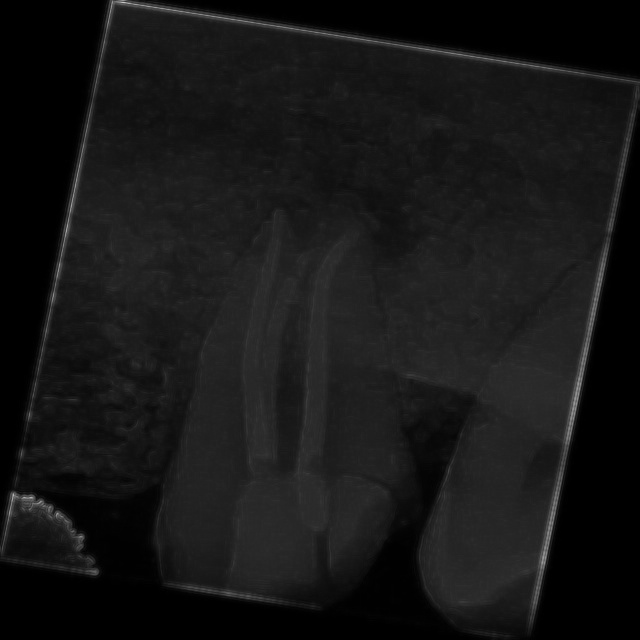Class 1- complete endodontic treatment: (75, 149, 497, 615)
